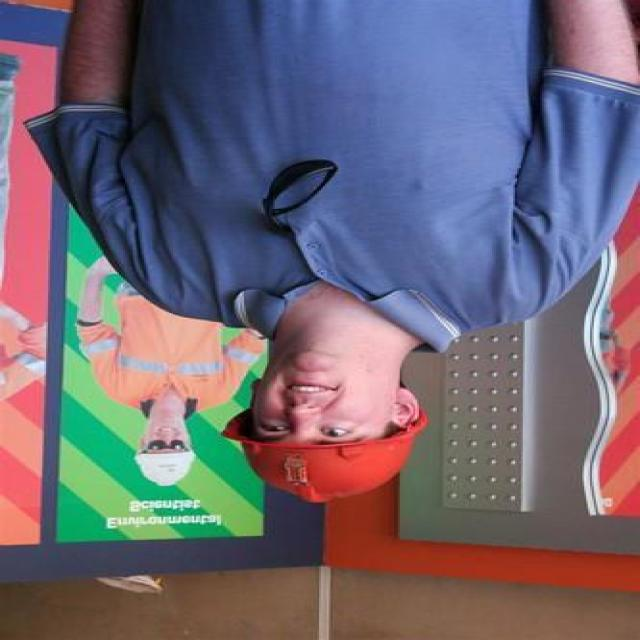helmet: (182, 410, 444, 510)
